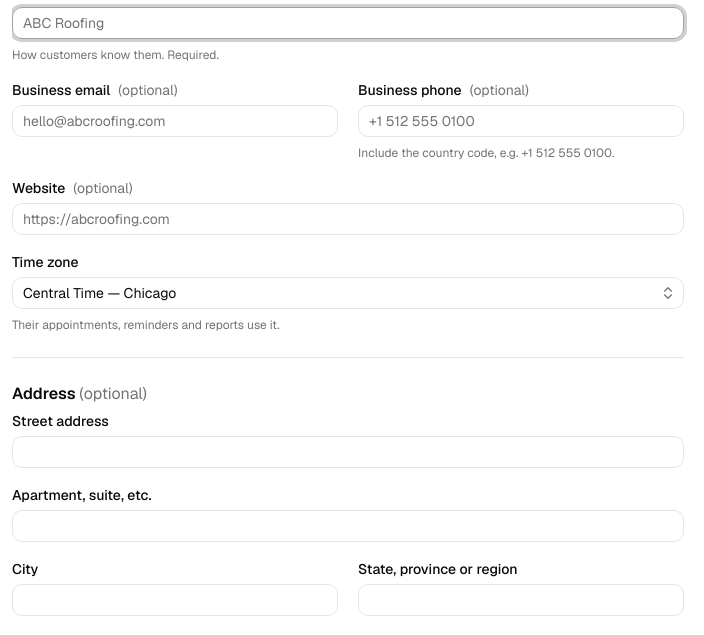
Scenario: CreateClientForm › previews the URL generated from the business name
In the field labelled "Business name": (348, 23) [12,7,684,39], type "Café Roofing"
(page scrolled)
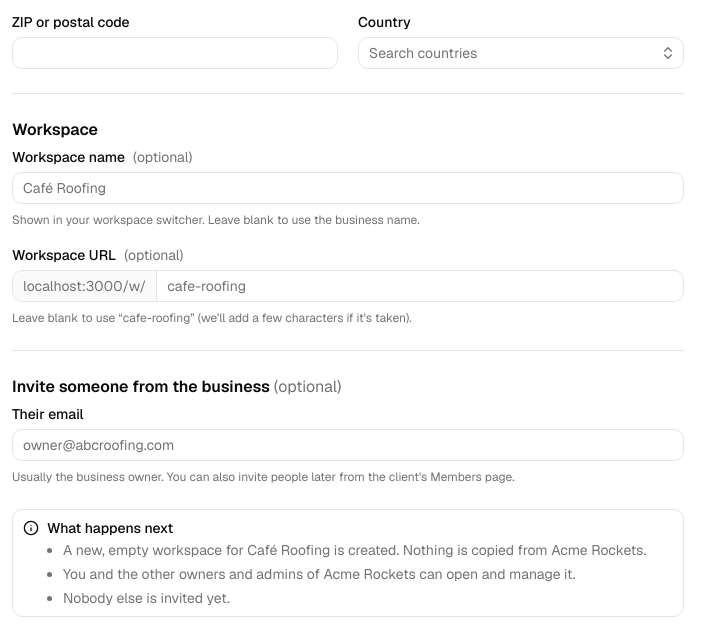
Result: the text "Leave blank to use “cafe-roofing”" is shown at [12,310,412,326]
